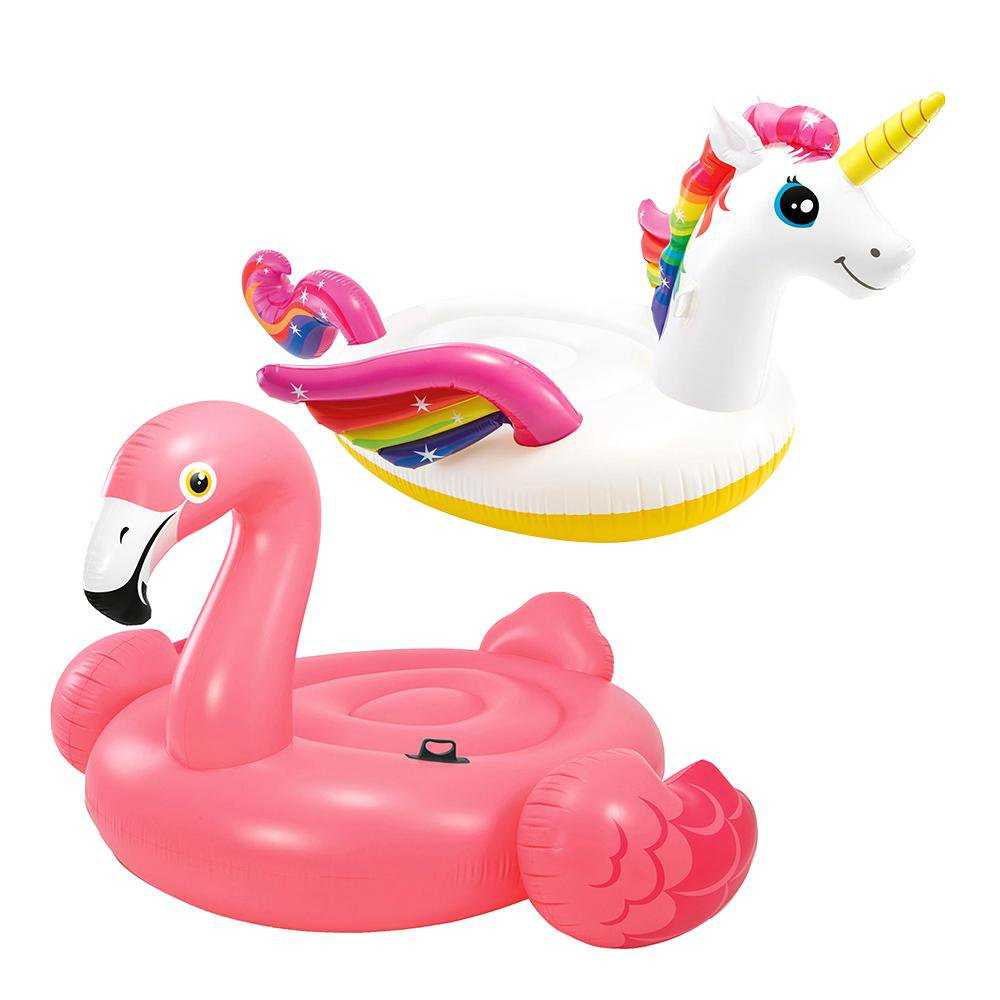Flamingo: (48, 400, 760, 961)
